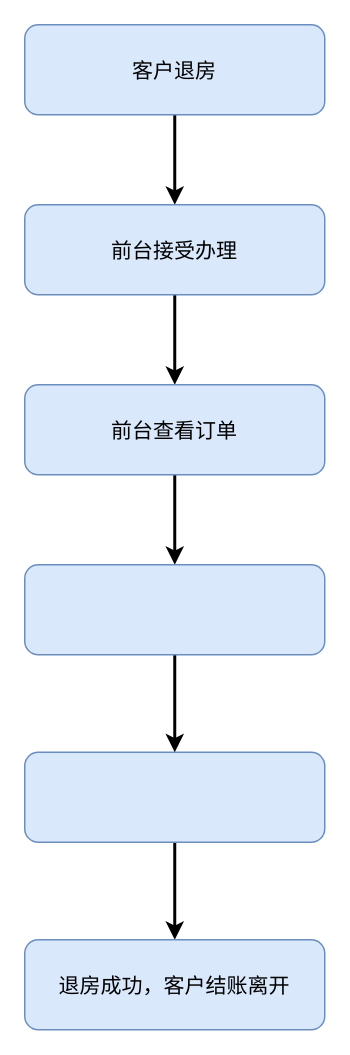
Image size: 350x1055. Some labels were removed from this diagram. The centre of each missing label's shape, as x and y in pixels:
"前台向客户确认订单信息" belongs at [174,609].
"客户确认信息" belongs at [174,796].
